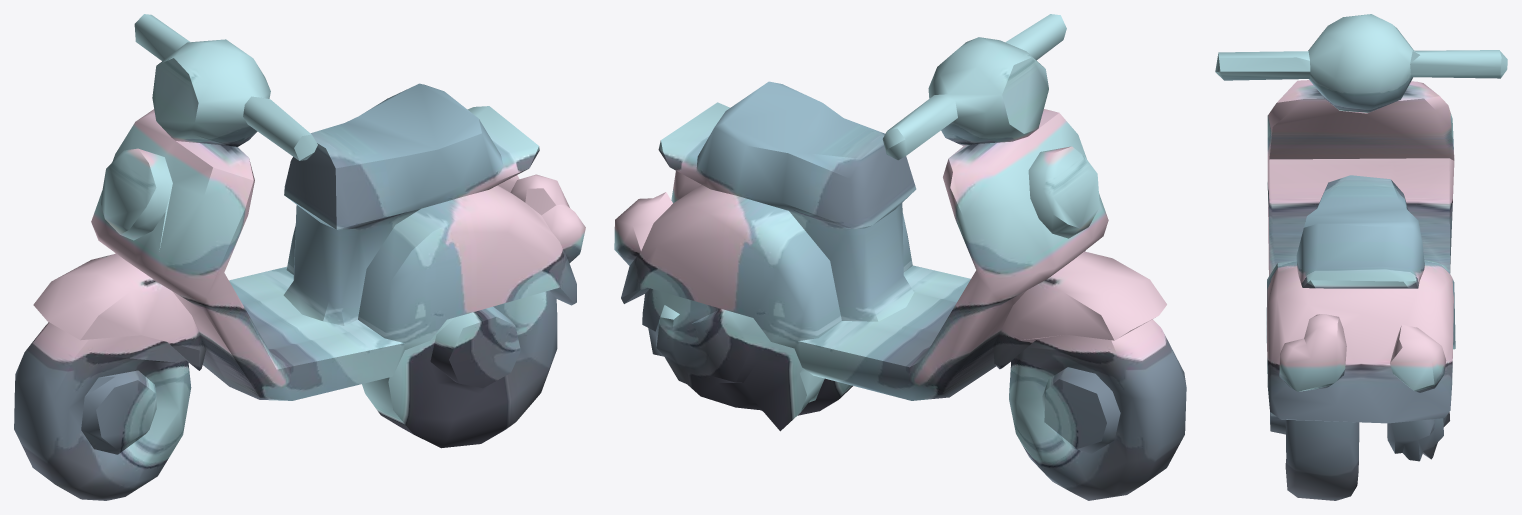
The picture shows the model from 3 angles, left to right: view 1: azimuth 30°, elevation 25°; view 2: azimuth 150°, elevation 25°; view 3: azimuth 270°, elevation 25°; orthographic projection. The views are drawn at different scales.
Visible parts, largest first — view 1: Decor_motorcycle_b; view 2: Decor_motorcycle_b; view 3: Decor_motorcycle_b.
Boxes of the visible parts, bbox=[...] form: Decor_motorcycle_b: bbox=[14, 14, 585, 500]; Decor_motorcycle_b: bbox=[614, 14, 1186, 500]; Decor_motorcycle_b: bbox=[1215, 14, 1507, 500].
Bounding box in the file's own units: 1.38 × 1.1 × 0.7729.
1 material, 1 textured.
